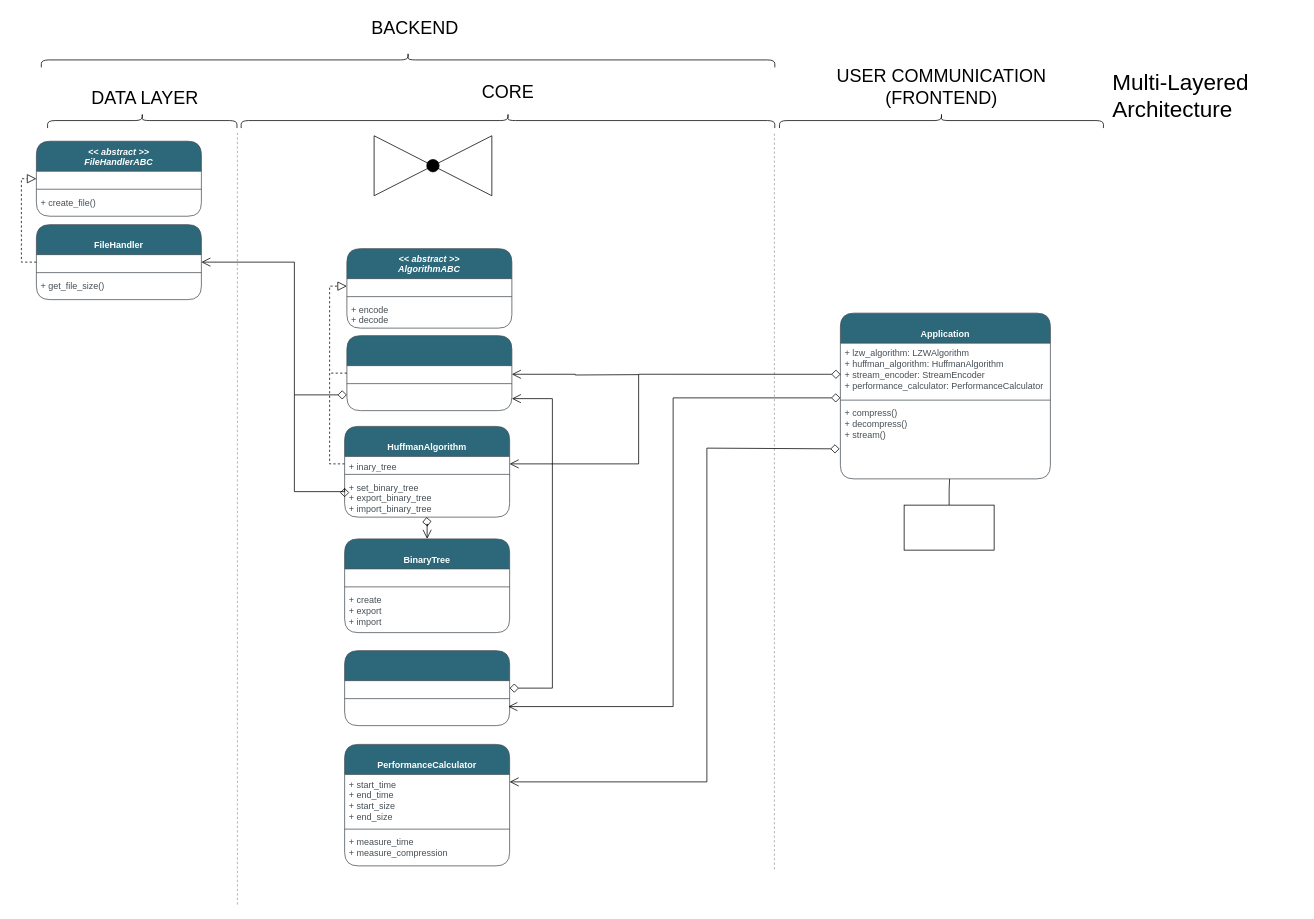
The diagram is 1314 pixels wide and 919 high, and some of its shapes have lost their labels. The centre of each missing label's shape, as x and y in pixels:
"LZWAlgorithm" goes at point (429, 373).
"main.py" goes at point (948, 527).
"StreamEncoder" goes at point (427, 688).
